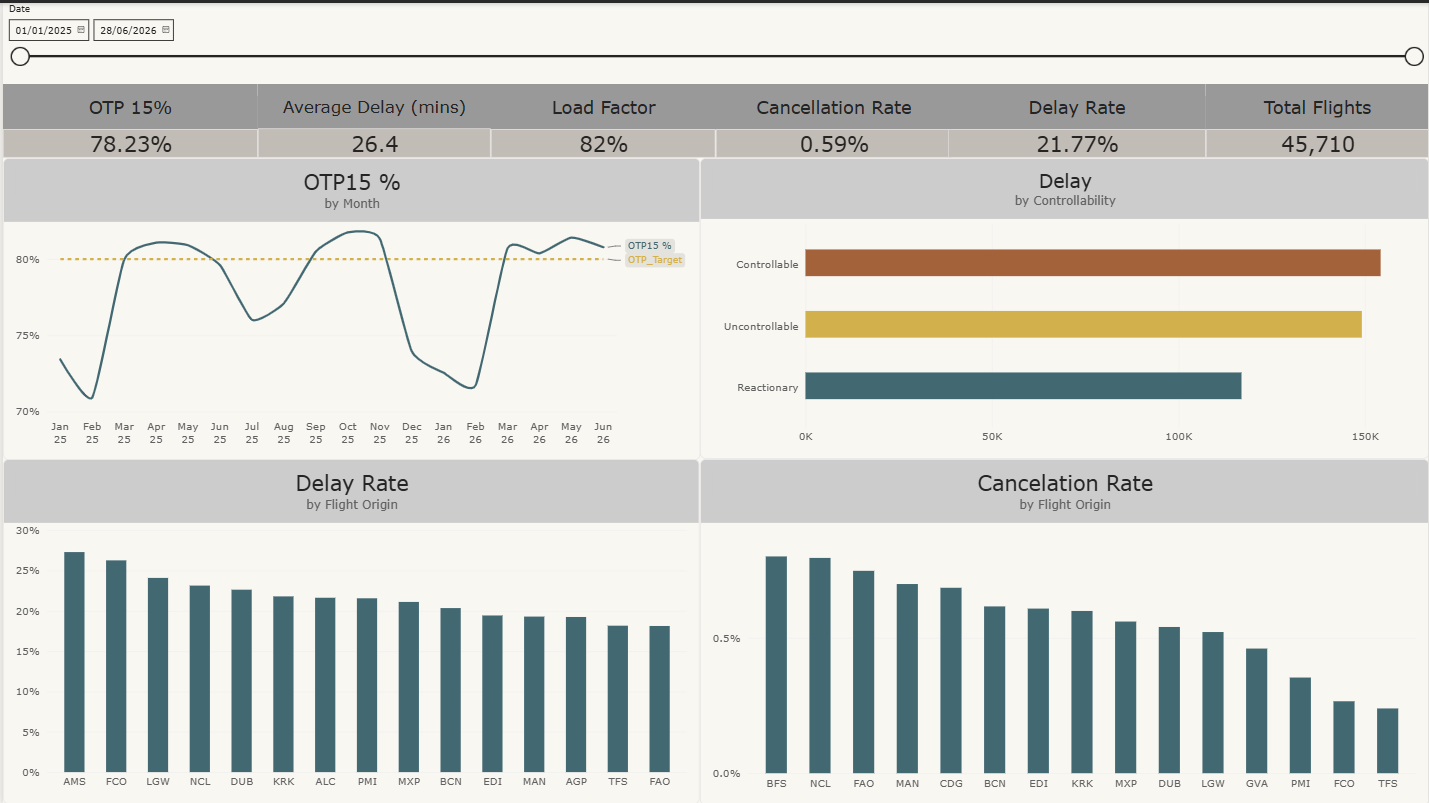

The dashboard page shown, as its layout file describes it:
{"tool":"powerbi","page":{"name":"Page 1","canvas":[1920,1080],"ordinal":0},"visuals":[{"type":"cardVisual","title":"Average Delay (mins)","fields":{"Data":["Avg(flights.departure_delay_mins)"]},"box":[343.4,109.1,313.8,99.7],"z":0},{"type":"cardVisual","title":"Load Factor","fields":{"Data":["flights.Load_factor"]},"box":[657.2,109.1,303,99.7],"z":1000},{"type":"cardVisual","title":"Cancellation Rate","fields":{"Data":["flights.Cancellation Rate %"]},"box":[960.1,109.1,317.8,99.7],"z":2000},{"type":"cardVisual","title":"Delay Rate","fields":{"Data":["flights.Delay Rate %"]},"box":[1272.6,109.1,347.4,99.7],"z":3000},{"type":"cardVisual","title":"OTP 15%","fields":{"Data":["flights.OTP15 %"]},"box":[0,109.1,343.4,99.7],"z":4000},{"type":"lineChart","title":"OTP15 % ","fields":{"Category":["Date Table.Month Year"],"Y":["flights.OTP15 %","flights.OTP_Target"]},"box":[0,208.7,938.6,406.7],"z":5000},{"type":"clusteredColumnChart","title":"Delay Rate","fields":{"Category":["flights.origin"],"Y":["flights.Delay Rate %"]},"box":[0,614.5,938.3,464.6],"z":6000},{"type":"cardVisual","title":"Total Flights","fields":{"Data":["Date Table.Total Flights"]},"box":[1620,109.1,300.3,99.7],"z":7000},{"type":"clusteredColumnChart","title":"Cancelation Rate","fields":{"Category":["flights.origin"],"Y":["flights.Cancellation Rate %"]},"box":[938.3,614.5,981.7,466.1],"z":8000},{"type":"barChart","title":"Delay","fields":{"Category":["delay_codes.controllability"],"Series":["delay_codes.controllability"],"Y":["Sum(flights.departure_delay_mins)"]},"box":[938.6,208.7,981.7,405.3],"z":9000},{"type":"slicer","fields":{"Values":["Date Table.Date"]},"box":[0,0,1920.3,109.1],"z":10000}]}

Visuals, with their boxes in screenshot pixels (x1, y1, x2, y2), scaled from the page's 1920x1080 canvas onto the 1429x803 screenshot:
"Average Delay (mins)" cardVisual: box(256, 81, 489, 155)
"Load Factor" cardVisual: box(489, 81, 715, 155)
"Cancellation Rate" cardVisual: box(715, 81, 951, 155)
"Delay Rate" cardVisual: box(947, 81, 1206, 155)
"OTP 15%" cardVisual: box(0, 81, 256, 155)
"OTP15 % " lineChart: box(0, 155, 699, 458)
"Delay Rate" clusteredColumnChart: box(0, 457, 698, 802)
"Total Flights" cardVisual: box(1206, 81, 1428, 155)
"Cancelation Rate" clusteredColumnChart: box(698, 457, 1428, 802)
"Delay" barChart: box(699, 155, 1428, 457)
slicer - Date Table.Date: box(0, 0, 1428, 81)
